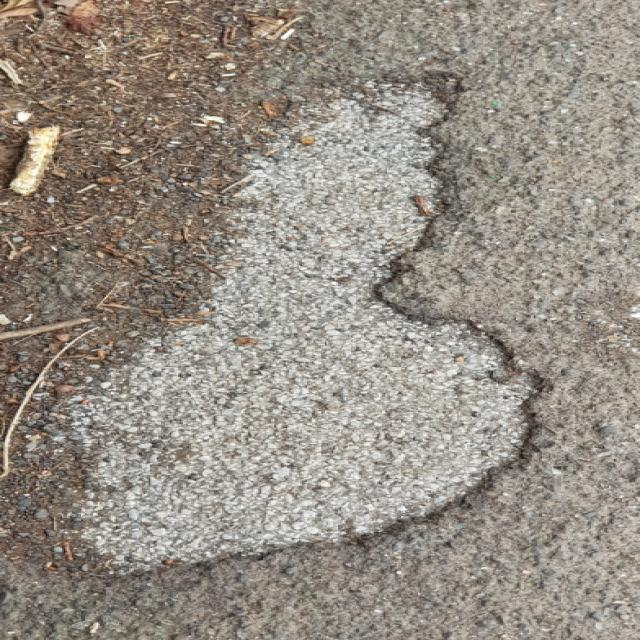pothole: (76, 65, 562, 584)
